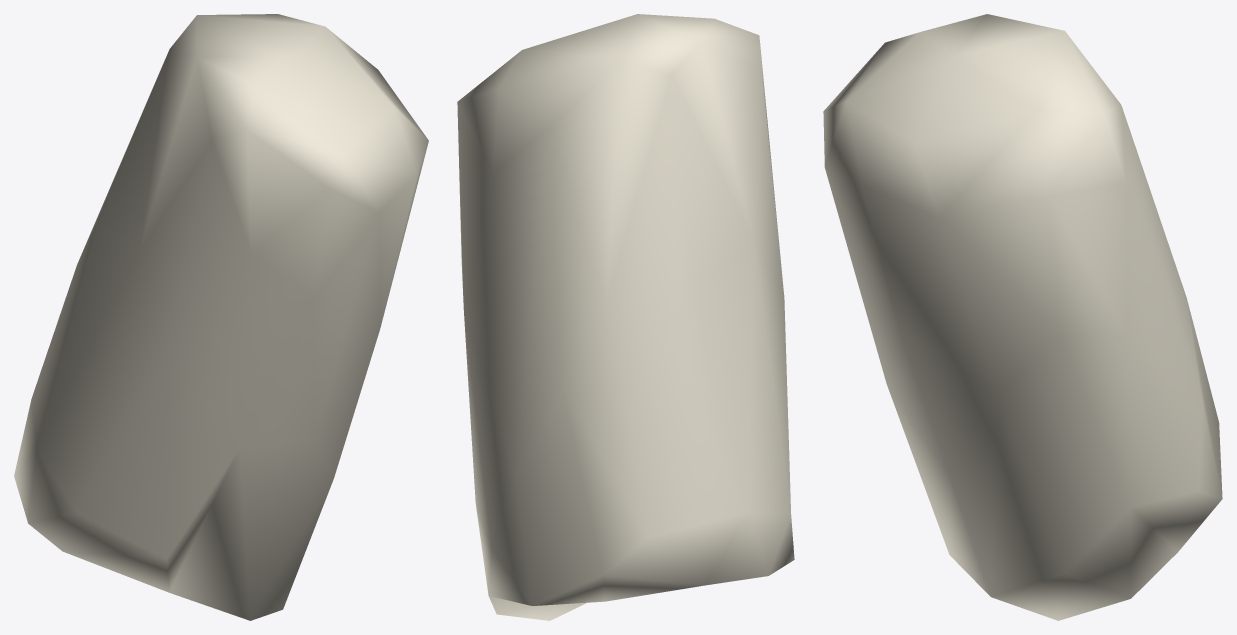
File: fma60890_mm1040.glb
3 views of the same model, side by side, from view 1: azimuth 30°, elevation 25°; view 2: azimuth 150°, elevation 25°; view 3: azimuth 270°, elevation 25° (orthographic). The views are drawn at different scales.
Visible parts, largest first — view 1: FMA60890_MM1040; view 2: FMA60890_MM1040; view 3: FMA60890_MM1040.
Boxes of the visible parts, bbox=[...] form: FMA60890_MM1040: bbox=[14, 14, 428, 620]; FMA60890_MM1040: bbox=[457, 14, 794, 620]; FMA60890_MM1040: bbox=[823, 14, 1222, 620].
Bounding box in the file's own units: 0.000966 × 0.00163 × 0.00106.
